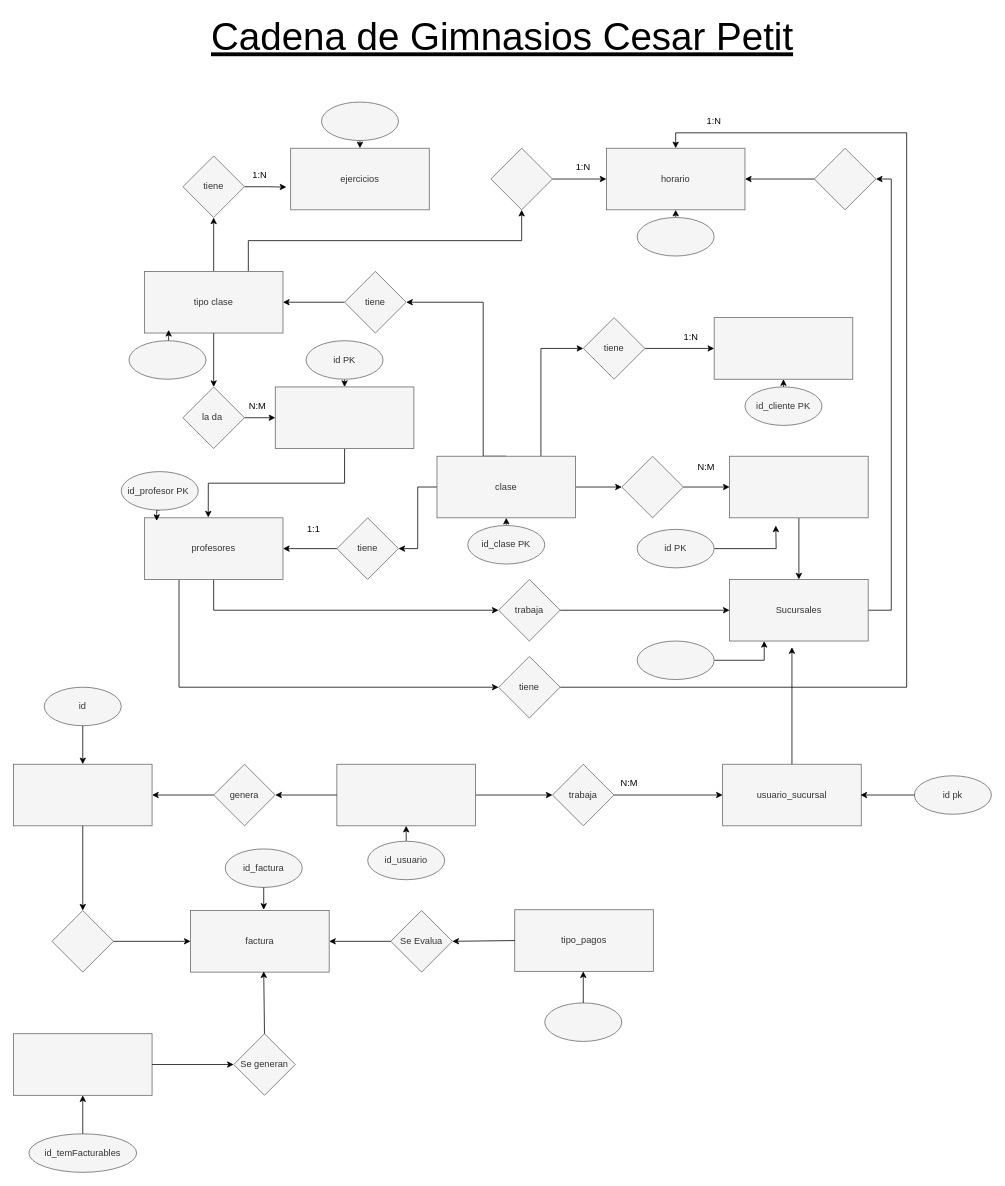
Some shapes in this 1005 by 1186 pixel diagram are drawn without their labels. Each missing label, with the box of its shape:
cliente: (713, 317, 853, 379)
disponen: (621, 455, 683, 518)
id_ejecrcicio PK: (321, 101, 398, 141)
id_horario PK: (636, 217, 714, 256)
id_sucursal PK: (636, 640, 714, 680)
id_tipoClase PK: (128, 340, 206, 379)
id_tipoPagos: (544, 1002, 622, 1041)
items Facturables: (13, 1033, 152, 1095)
se da: (490, 147, 552, 210)
Se genera: (51, 910, 114, 972)
subscripcion temporal: (13, 763, 152, 826)
Sucursales/clases: (729, 455, 868, 518)
tiene distintos: (814, 147, 876, 210)
tipo clase/Profesores: (275, 386, 414, 449)
usuario: (336, 763, 475, 826)
